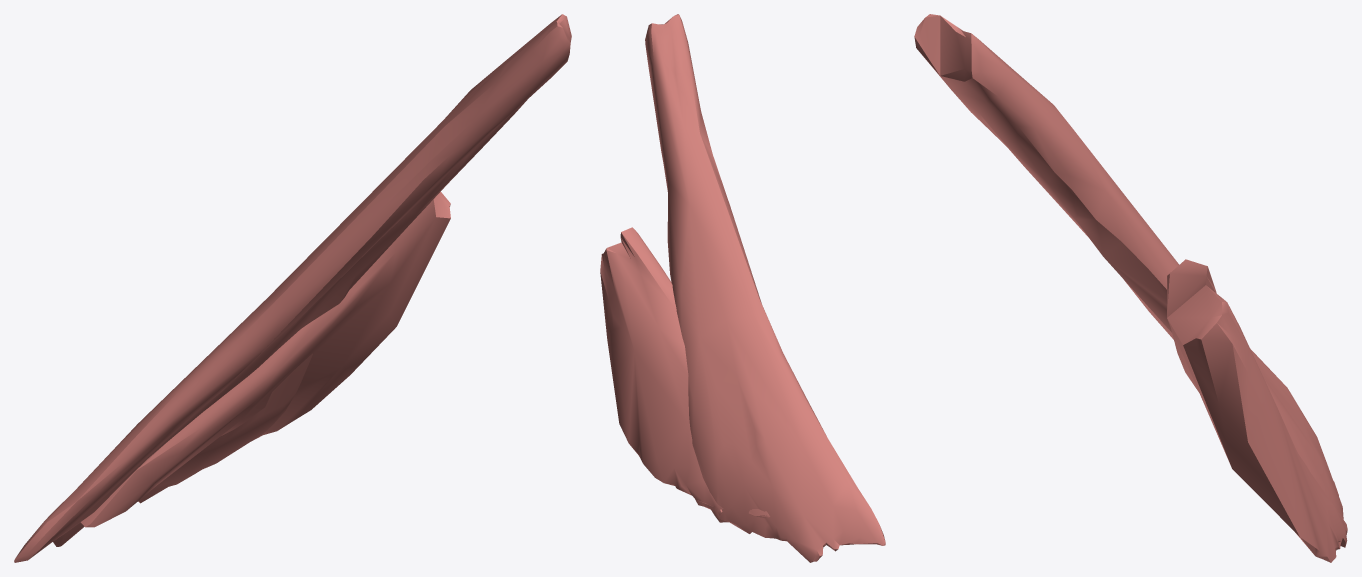
File: fma82368_mm3995m.glb
3 views of the same model, side by side, from view 1: azimuth 30°, elevation 25°; view 2: azimuth 150°, elevation 25°; view 3: azimuth 270°, elevation 25° (orthographic). The views are drawn at different scales.
Parts seen in each view (by area): view 1: FMA82368_MM3995M; view 2: FMA82368_MM3995M; view 3: FMA82368_MM3995M.
Boxes of the visible parts, x1,y1,x2,y2 form: FMA82368_MM3995M: (14, 14, 571, 562); FMA82368_MM3995M: (600, 14, 885, 562); FMA82368_MM3995M: (914, 14, 1347, 562).
Size of the model in its own units: 0.0252 by 0.0301 by 0.0167.
